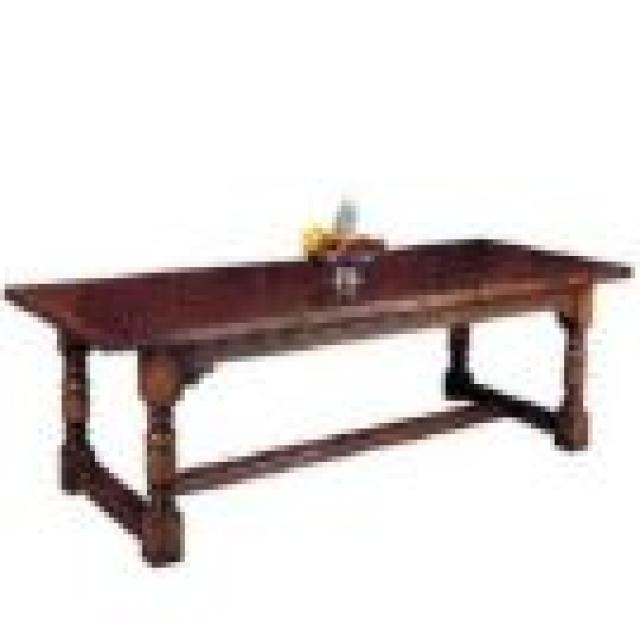table: (2, 227, 636, 575)
